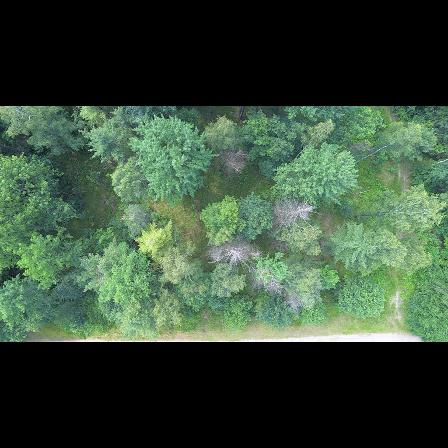Dead: (270, 200, 316, 233), (220, 146, 252, 177), (251, 272, 285, 297), (225, 244, 259, 263), (210, 248, 225, 264)
